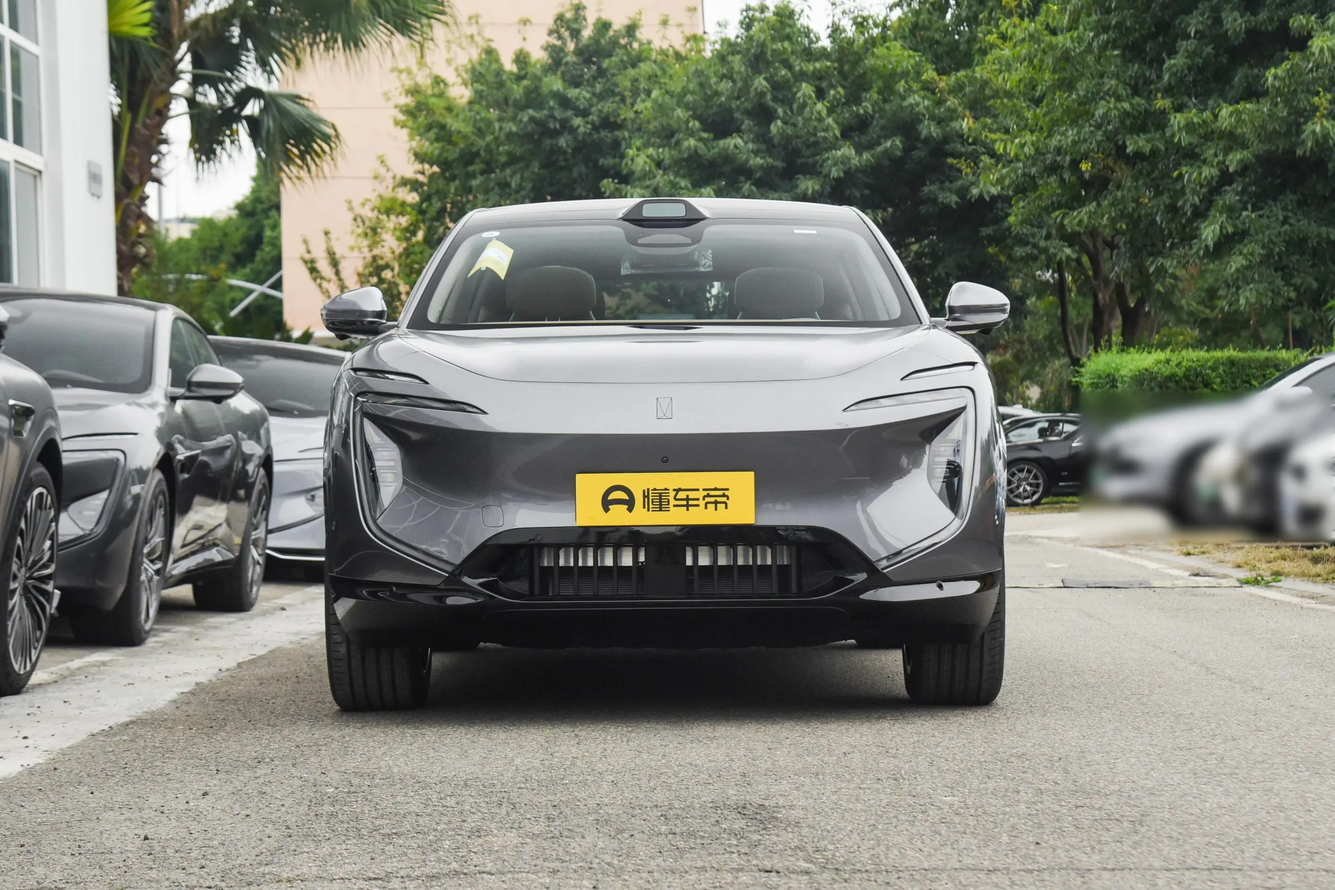AVATR: (657, 397, 672, 419)
